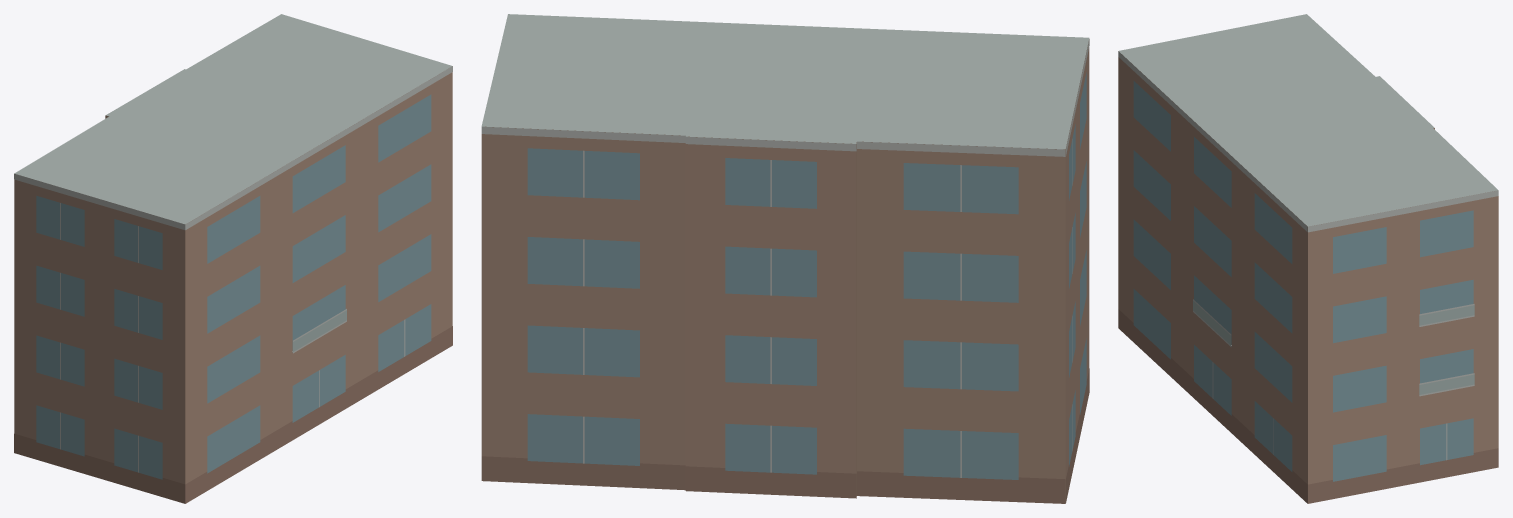
The model's file is survey-upis-32780066.glb.
3 renders of one model, left to right at view 1: azimuth 30°, elevation 25°; view 2: azimuth 150°, elevation 25°; view 3: azimuth 270°, elevation 25°, orthographic. The views are drawn at different scales.
Parts seen in each view (by area): view 1: survey-upis-32780066.tmp; view 2: survey-upis-32780066.tmp; view 3: survey-upis-32780066.tmp.
Part boxes in pixels (x1=…): survey-upis-32780066.tmp: x1=14, y1=14, x2=452, y2=503; survey-upis-32780066.tmp: x1=481, y1=14, x2=1089, y2=503; survey-upis-32780066.tmp: x1=1118, y1=14, x2=1498, y2=503.
Size of the model in its own units: 19.09 by 11.6 by 14.43.
